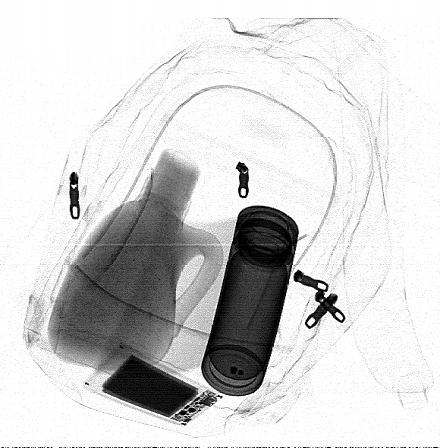Powerbank: (82, 340, 224, 430)
